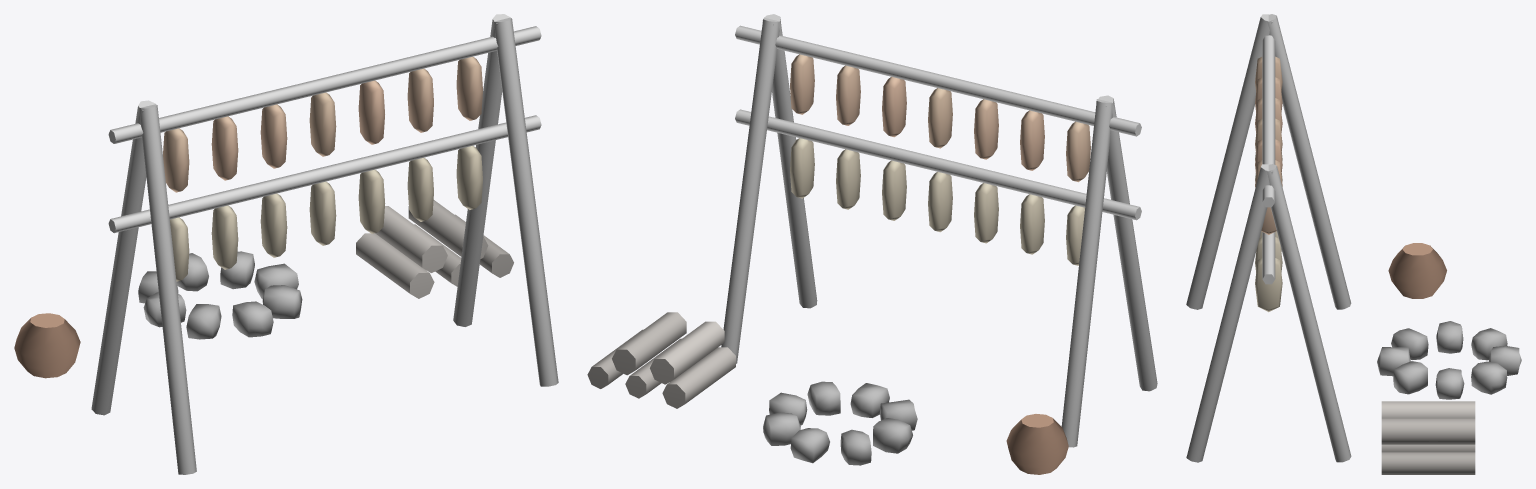
Rendered from hw_drying_rack.glb.
3 views of the same model, side by side, from view 1: azimuth 30°, elevation 25°; view 2: azimuth 150°, elevation 25°; view 3: azimuth 270°, elevation 25° (orthographic). The views are drawn at different scales.
Visible parts, largest first — view 1: Building; view 2: Building; view 3: Building.
Part boxes in pixels (bbox=[...]): Building: bbox=[14, 14, 558, 474]; Building: bbox=[587, 14, 1157, 474]; Building: bbox=[1186, 14, 1521, 474].
Bounding box in the file's own units: 2.23 × 1.52 × 1.58.
